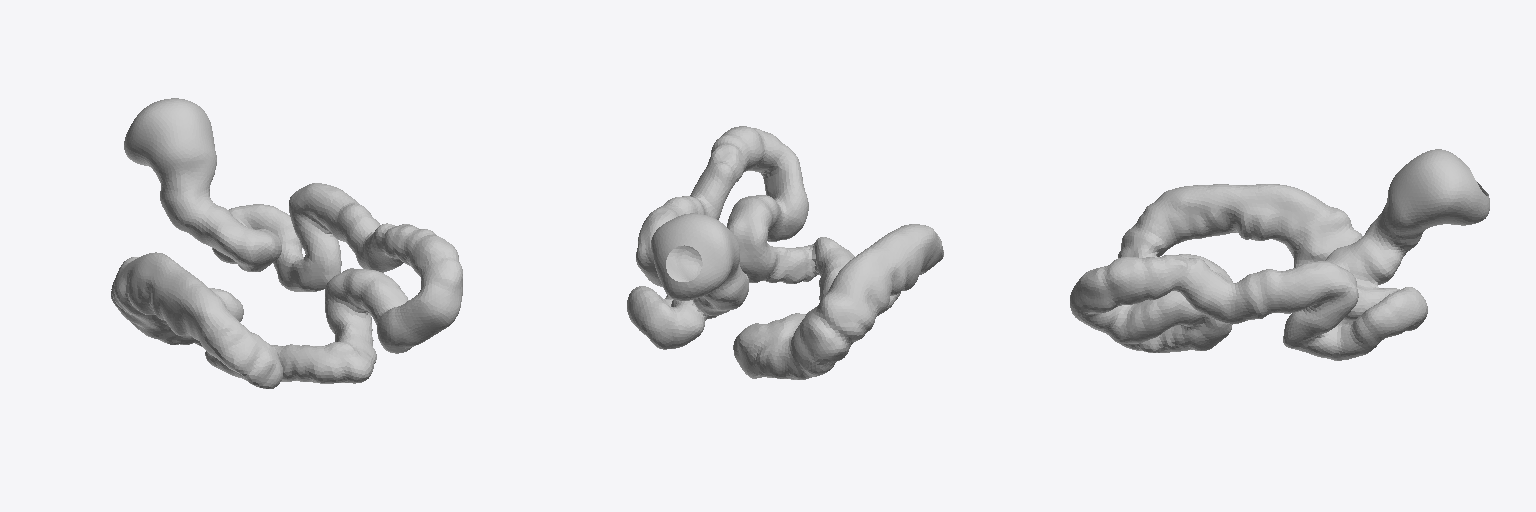
Rendered from 2D_Interior_40000_smooth.obj.
3 views of the same model, side by side, from view 1: azimuth 30°, elevation 25°; view 2: azimuth 150°, elevation 25°; view 3: azimuth 270°, elevation 25° (orthographic).
Visible parts, largest first — view 1: 2D_Interior_40000; view 2: 2D_Interior_40000; view 3: 2D_Interior_40000.
Boxes of the visible parts, x1,y1,x2,y2 form: 2D_Interior_40000: [111, 98, 462, 388]; 2D_Interior_40000: [627, 126, 943, 379]; 2D_Interior_40000: [1070, 149, 1489, 360].
Size of the model in its own units: 261 by 201 by 390.